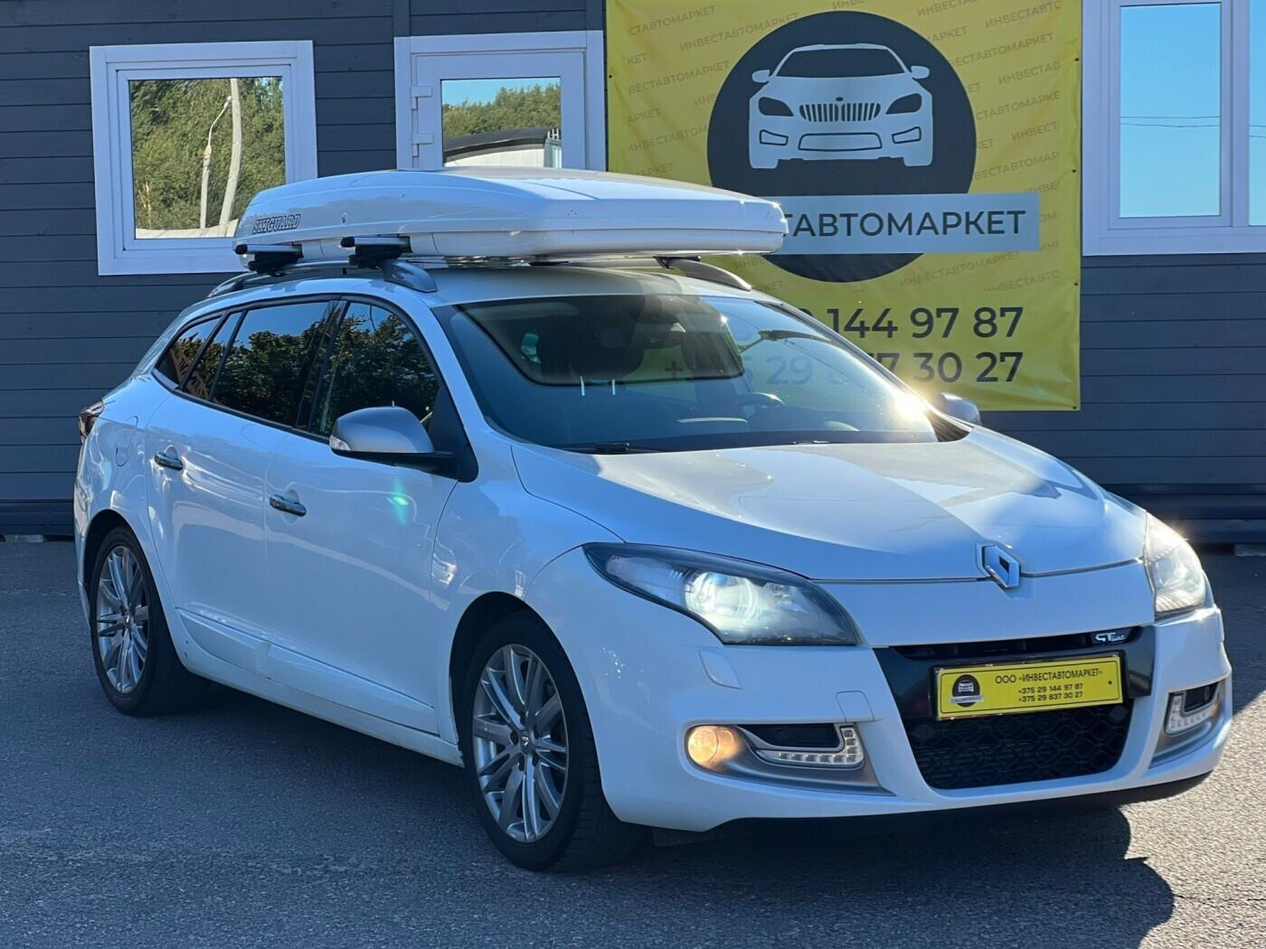Megane_2012-2014: (71, 260, 1235, 851)
